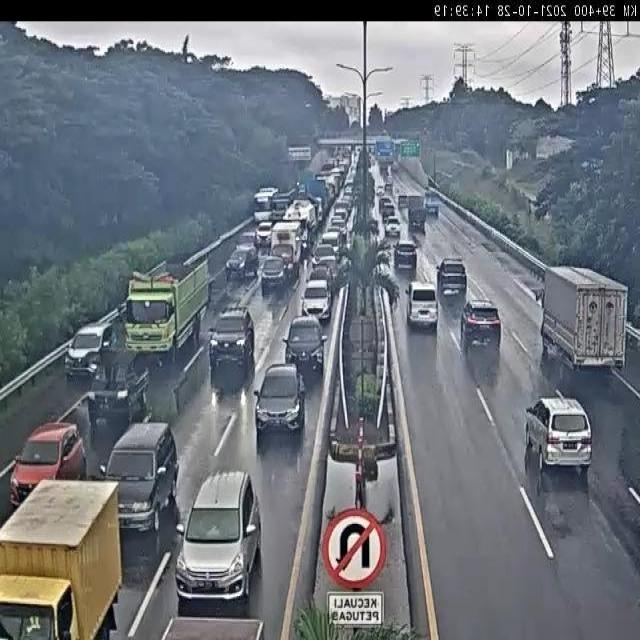Bus: (252, 185, 280, 228)
Car: (175, 470, 265, 606), (100, 421, 180, 532), (9, 420, 86, 509), (524, 395, 592, 476), (88, 348, 152, 422), (252, 362, 306, 442), (64, 319, 118, 384), (207, 304, 257, 373), (284, 314, 328, 378), (460, 299, 502, 352), (300, 276, 332, 322), (225, 242, 259, 282), (436, 257, 467, 300), (260, 255, 287, 294), (306, 264, 334, 294), (393, 240, 418, 270), (316, 256, 340, 284), (320, 230, 342, 260), (311, 242, 336, 266), (256, 221, 274, 246), (330, 218, 348, 238), (386, 216, 401, 237), (240, 230, 257, 247), (378, 196, 392, 215), (382, 202, 395, 222), (398, 194, 408, 207), (384, 182, 393, 196), (376, 185, 384, 196), (330, 214, 341, 221), (391, 164, 399, 173)
Truck: (0, 474, 125, 640), (541, 264, 632, 377), (122, 258, 209, 369), (280, 198, 318, 256), (269, 220, 302, 282), (305, 178, 326, 226), (269, 186, 297, 222), (408, 193, 426, 230), (297, 168, 315, 196), (424, 190, 441, 217), (379, 160, 389, 174)
Van: (406, 280, 438, 331)
